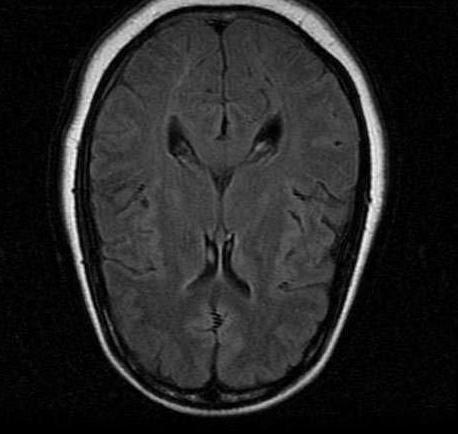Normal_Brain: (1, 1, 458, 434)
